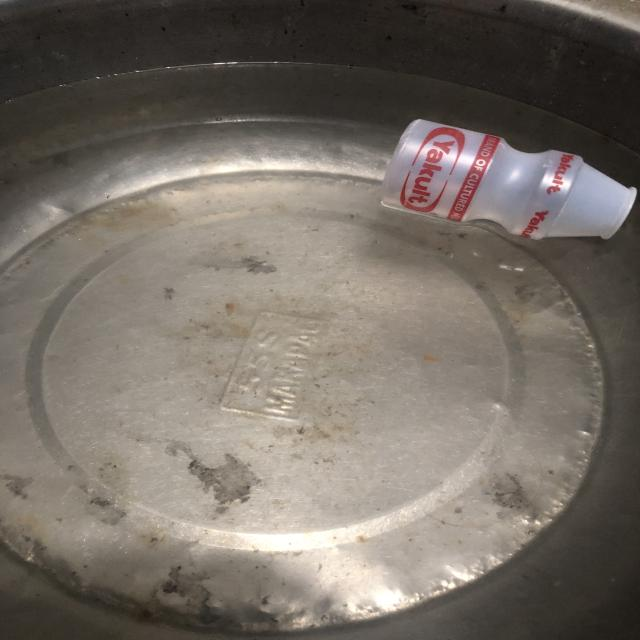Plastic Bottle: (373, 123, 640, 257)
